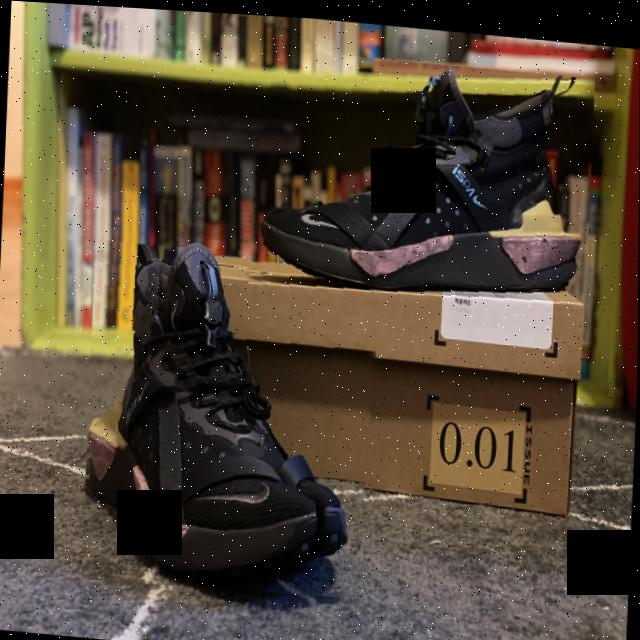shoe: (82, 226, 385, 602), (247, 43, 595, 327)
